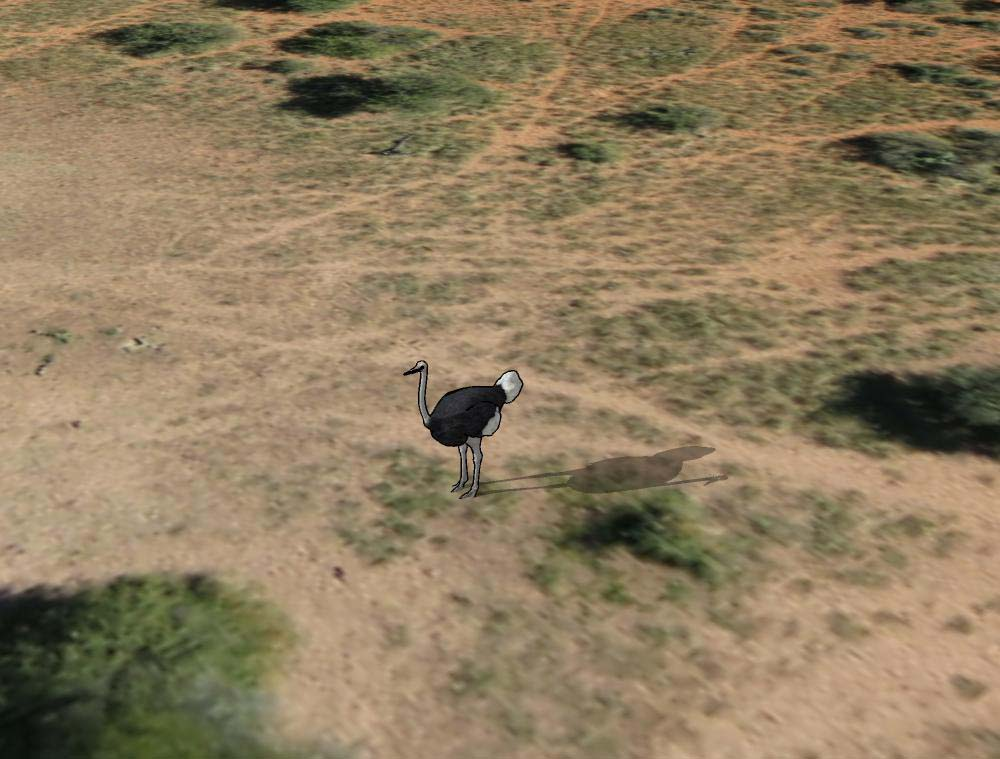springbok: (400, 352, 530, 503)
